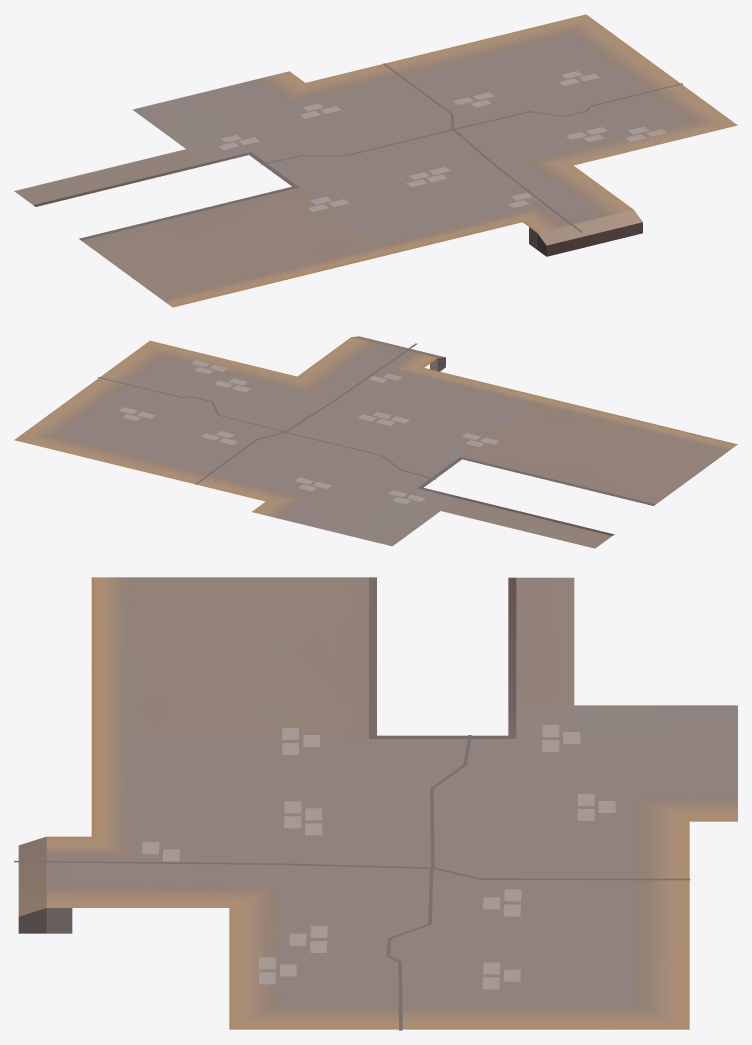
File: SM_CityFloor_01.fbx
3 renders of one model, top to bottom at view 1: azimuth 30°, elevation 25°; view 2: azimuth 150°, elevation 25°; view 3: azimuth 270°, elevation 25°, orthographic. The views are drawn at different scales.
Parts seen in each view (by area): view 1: SM_CityFloor_01; view 2: SM_CityFloor_01; view 3: SM_CityFloor_01.
Boxes of the visible parts, box(x1,y1,x2,y2) form: SM_CityFloor_01: box(14, 14, 737, 307); SM_CityFloor_01: box(14, 336, 737, 548); SM_CityFloor_01: box(14, 577, 737, 1030).
Bounding box in the file's own units: 21.18 × 0.5649 × 14.3.
